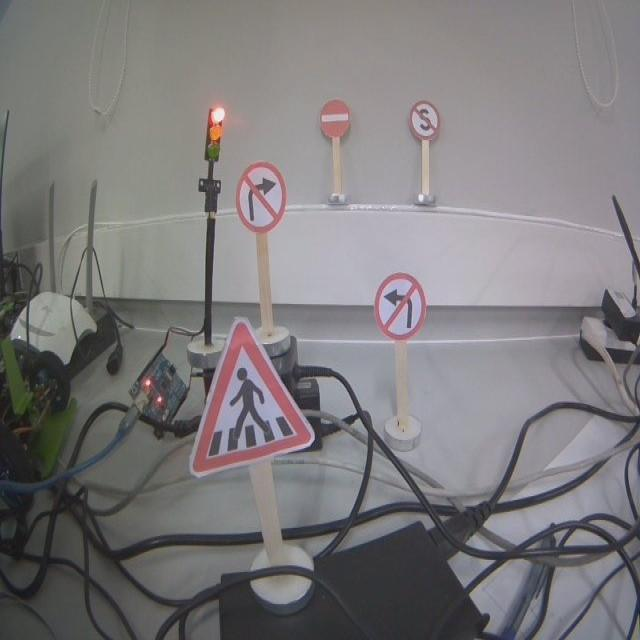Dilarang Belok Kanan: (235, 162, 286, 234)
Dilarang Belok Kiri: (374, 272, 426, 339)
Dilarang Masuk: (319, 100, 350, 137)
Lampu Merah: (205, 106, 224, 162)
Rambu Berhenti: (409, 100, 440, 141)
Rambu Penyebrangan: (189, 319, 313, 473)
